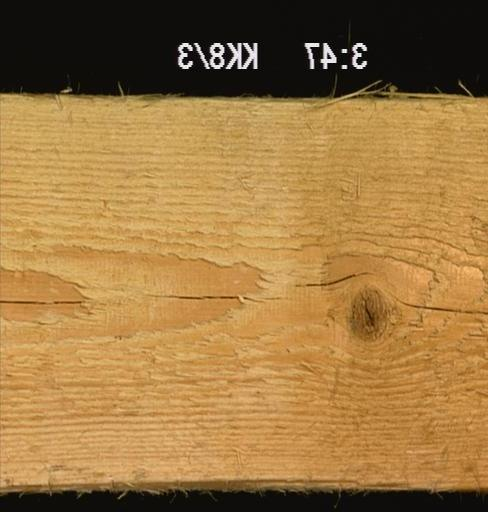sound_knot: (343, 286, 394, 345)
split: (395, 296, 486, 315), (292, 267, 374, 287), (143, 293, 286, 302), (0, 298, 83, 305)
wave: (0, 478, 430, 493)
